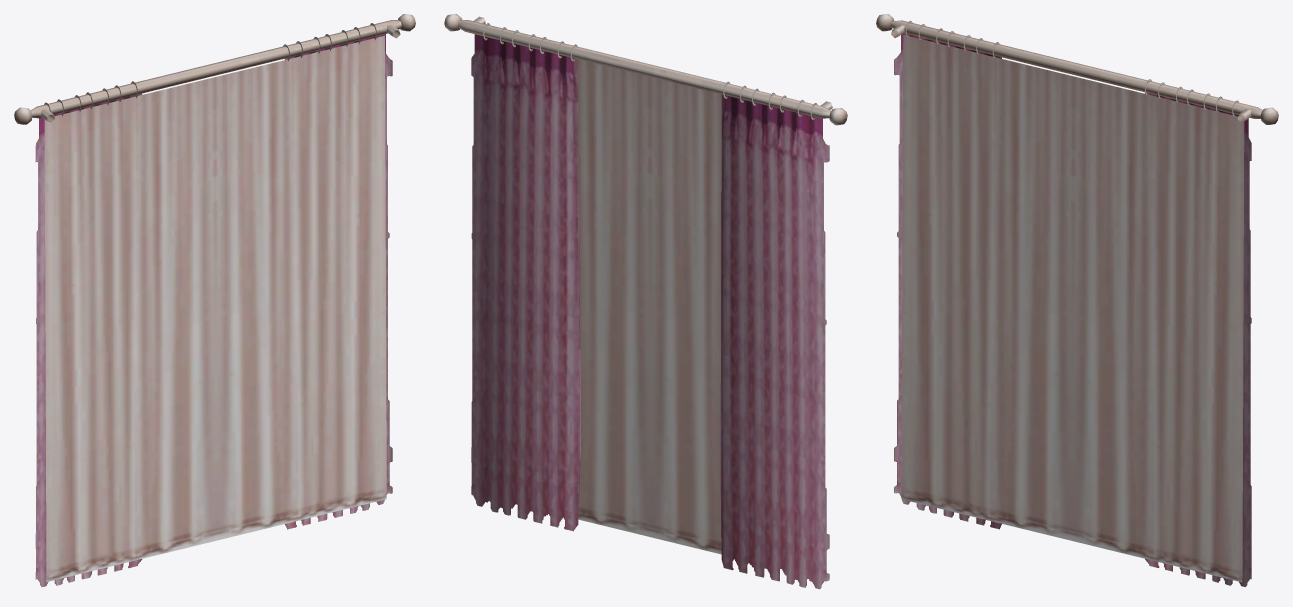
File: furni_0200341.FBX
The picture shows the model from 3 angles, left to right: view 1: azimuth 30°, elevation 25°; view 2: azimuth 150°, elevation 25°; view 3: azimuth 330°, elevation 25°; orthographic projection.
Visible parts, largest first — view 1: furni_0200341; view 2: furni_0200341; view 3: furni_0200341.
Part boxes in pixels (<box>): furni_0200341: <box>14,14,415,586</box>; furni_0200341: <box>444,14,847,589</box>; furni_0200341: <box>876,14,1278,586</box>.
Size of the model in its own units: 189 by 219 by 11.26.
2 materials, 2 textured.
